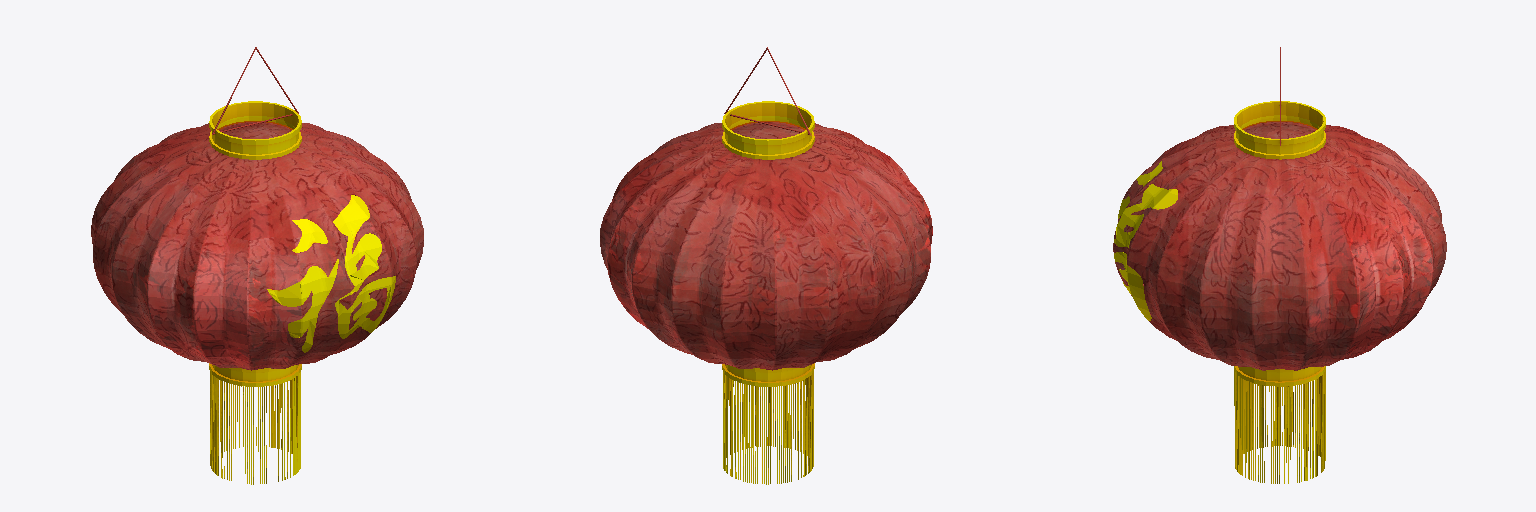
3 views of the same model, side by side, from view 1: azimuth 30°, elevation 25°; view 2: azimuth 150°, elevation 25°; view 3: azimuth 270°, elevation 25° (orthographic).
Parts seen in each view (by area): view 1: glass_001, solid_002; view 2: glass_001, solid_002; view 3: glass_001, solid_002.
Part boxes in pixels (x1,y1,x2,y2): glass_001: (91,122,423,370); solid_002: (209,101,395,484); glass_001: (600,122,932,370); solid_002: (722,101,814,484); glass_001: (1113,122,1446,370); solid_002: (1114,101,1325,483).
Size of the model in its own units: 1.06 by 1.47 by 1.06.
Materials: 1 (1 with a texture image).